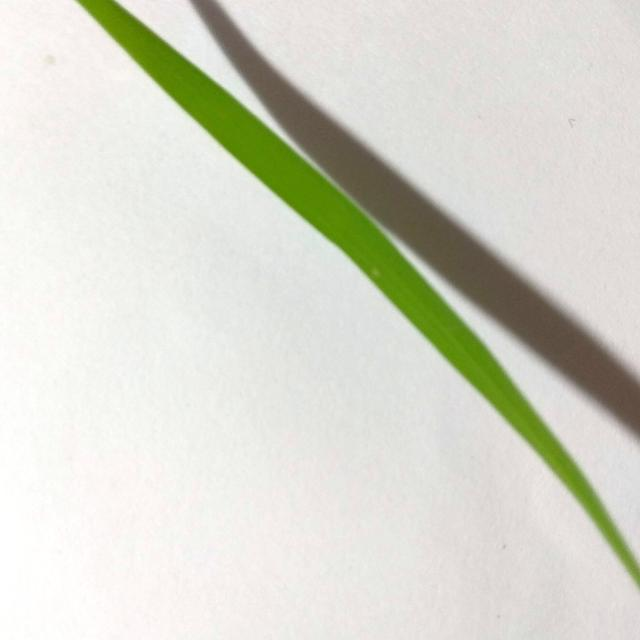Rice_Healthy: (79, 0, 640, 587)
